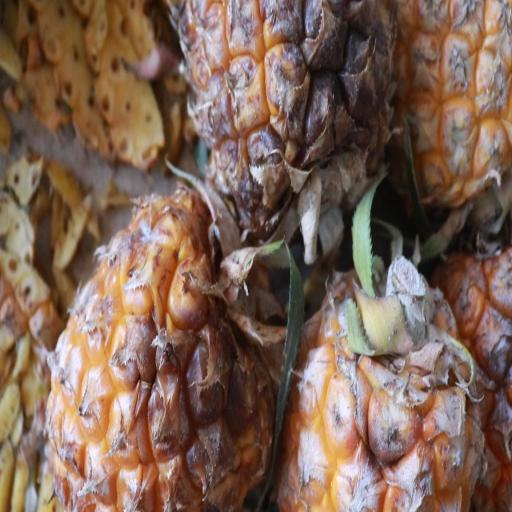Pineapple - v8 v1: (43, 161, 286, 512), (272, 243, 494, 511), (174, 1, 404, 246)
